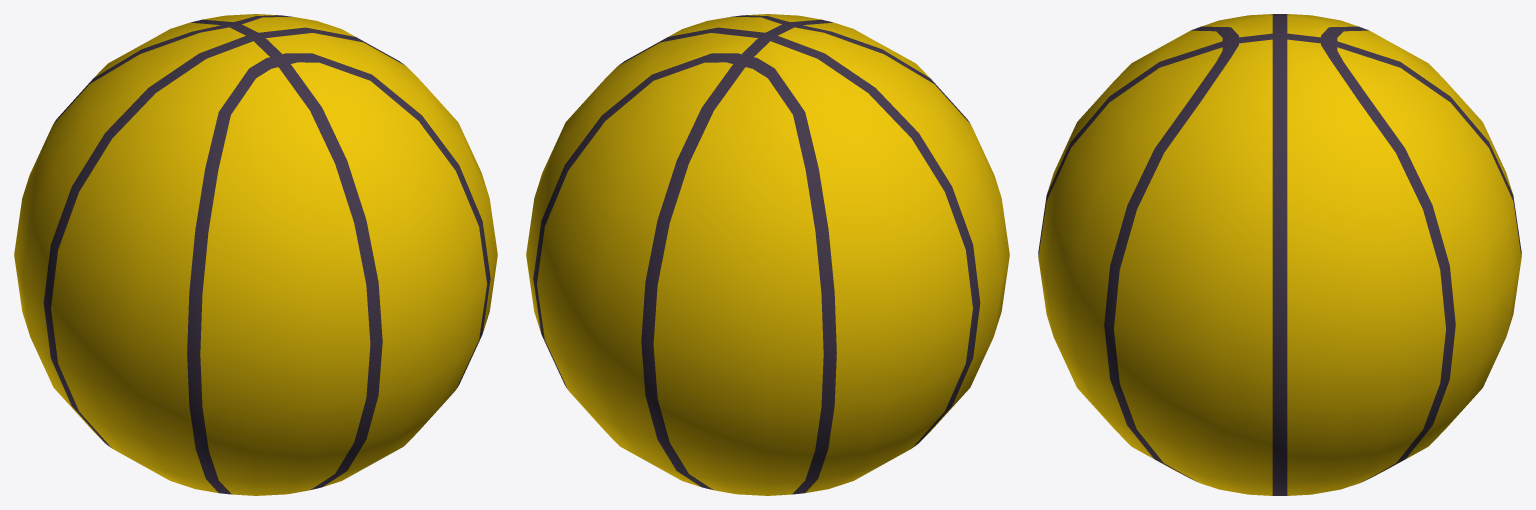
Rendered from Basketball_Yellow.fbx.
The picture shows the model from 3 angles, left to right: view 1: azimuth 30°, elevation 25°; view 2: azimuth 150°, elevation 25°; view 3: azimuth 270°, elevation 25°; orthographic projection.
Visible parts, largest first — view 1: Basketball_Yellow; view 2: Basketball_Yellow; view 3: Basketball_Yellow.
Part boxes in pixels (box(x1,y1,x2,y2)): Basketball_Yellow: box(14, 14, 497, 495); Basketball_Yellow: box(526, 14, 1009, 495); Basketball_Yellow: box(1038, 14, 1521, 495).
Size of the model in its own units: 95.63 by 95.47 by 95.72.
